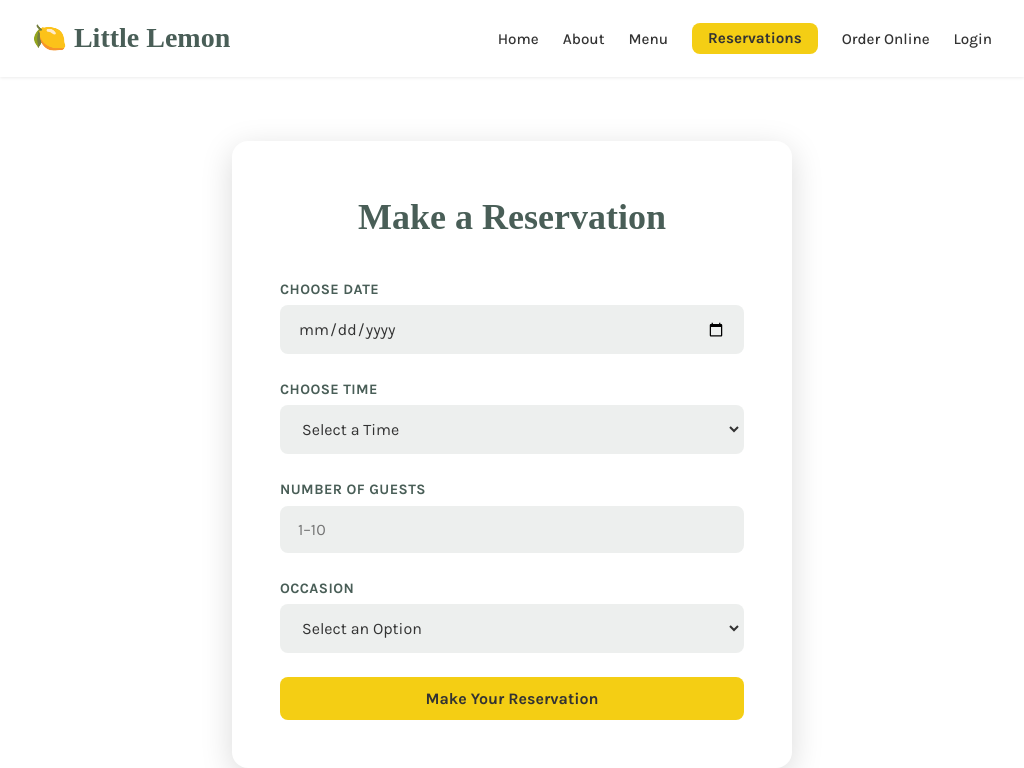
Scenario: BookingForm — validation › shows all error messages when form is submitted empty
Click the button "Make Your Reservation" at (512, 698), box [280,677,744,720]
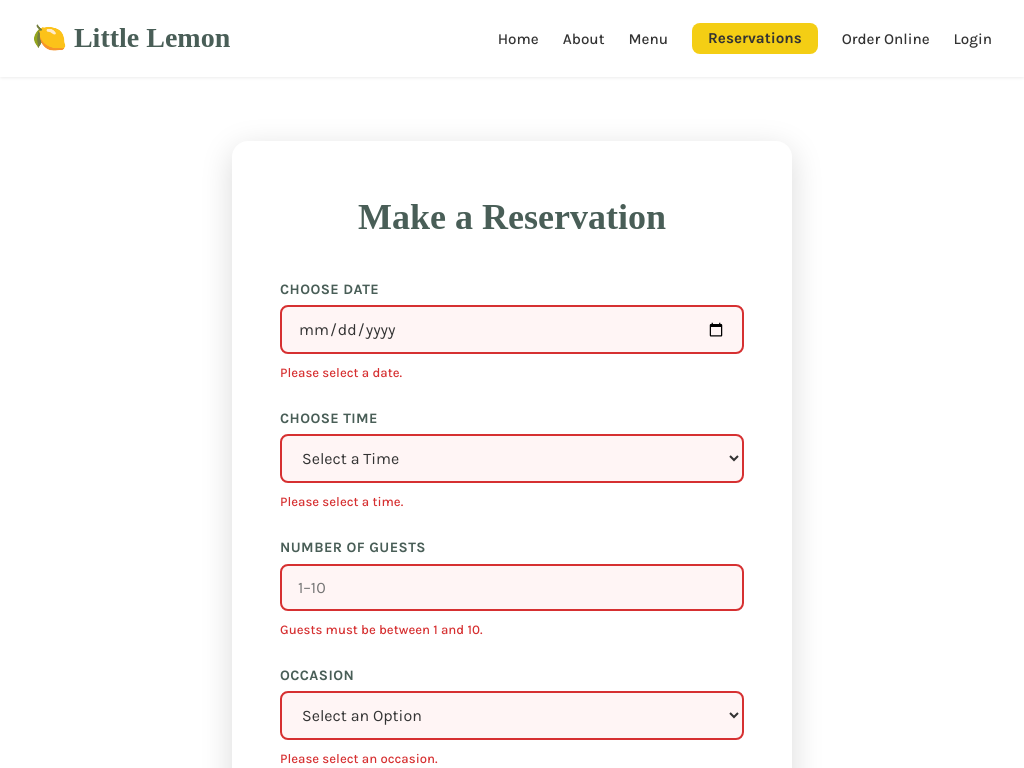
Check: the text "Please select a date." is shown, box [280,365,402,380]
Check: the text "Please select a time." is shown, box [280,494,403,510]
Check: the text "Guests must be between 1 and 10." is shown, box [280,622,482,636]
